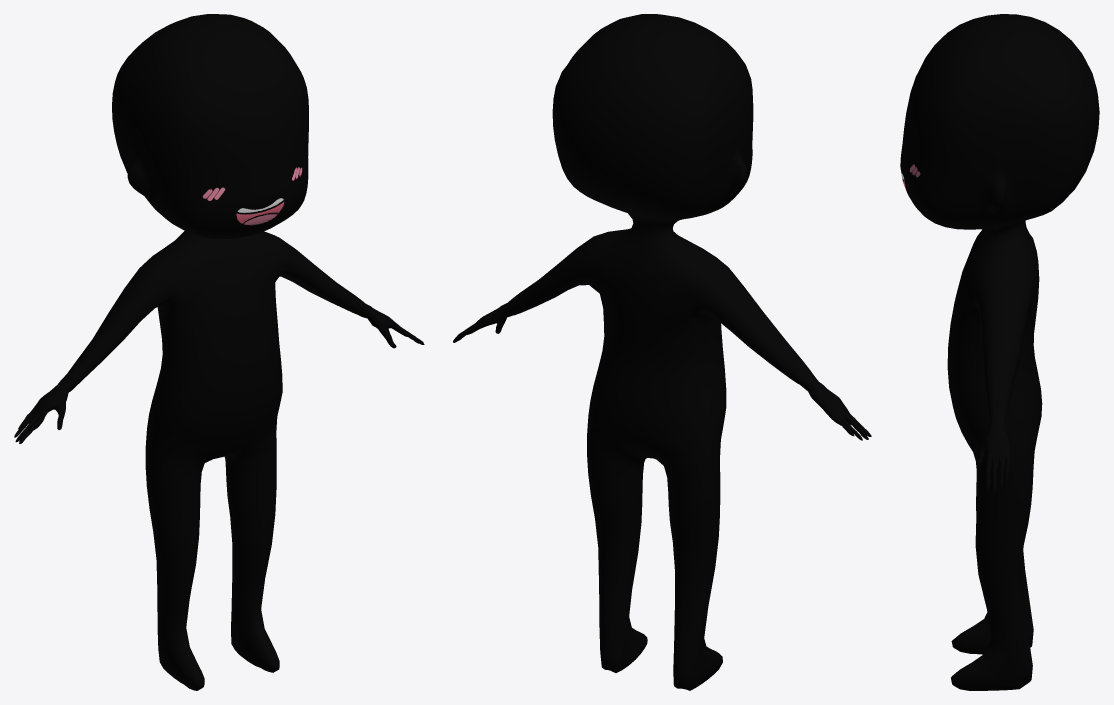
3 views of the same model, side by side, from view 1: azimuth 30°, elevation 25°; view 2: azimuth 150°, elevation 25°; view 3: azimuth 270°, elevation 25° (orthographic).
Parts seen in each view (by area): view 1: BODY_0; view 2: BODY_0; view 3: BODY_0.
Boxes of the visible parts, left/top/right/bottom form: BODY_0: left=14, top=14, right=424, bottom=690; BODY_0: left=453, top=14, right=871, bottom=690; BODY_0: left=900, top=14, right=1099, bottom=690.
Bounding box in the file's own units: 14.06 × 21.28 × 5.93.
1 material, 1 textured.
